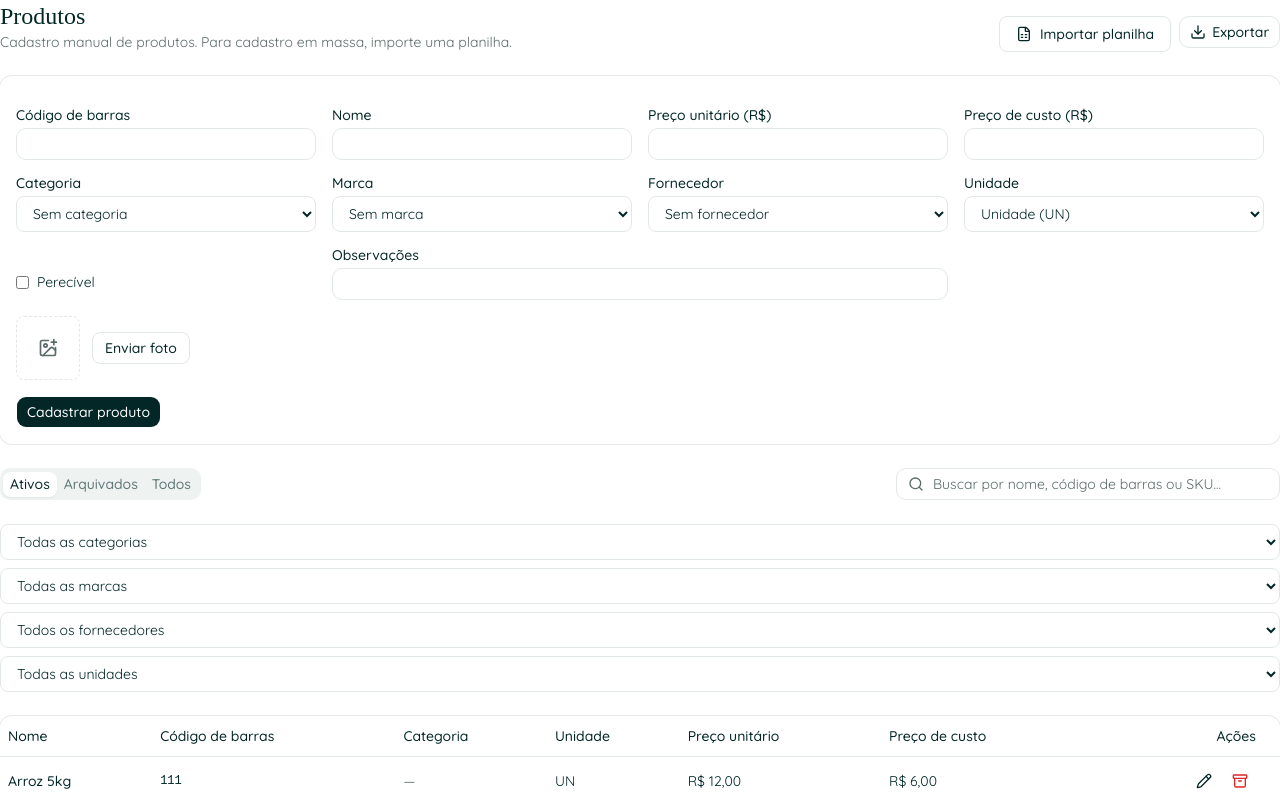
ProductsPage — linha do tempo de preços no diálogo de edição › ao abrir a edição, busca e mostra o histórico daquele produto
Click the button named "Editar Arroz 5kg".
click(1204, 780)  # box top-left (1188, 764), bottom-right (1220, 796)
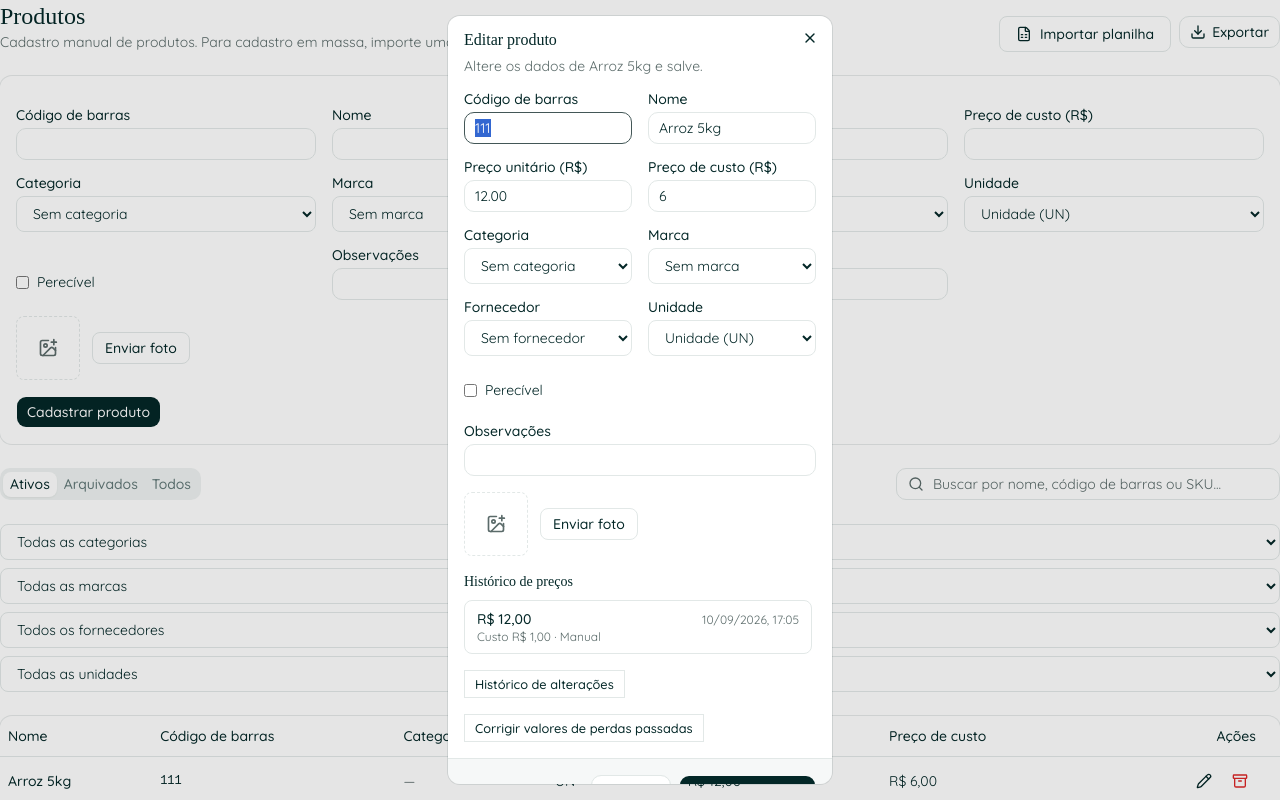
expect the list named "histórico de preços" shows "12,00": met, box top-left (477, 610), bottom-right (531, 628)
